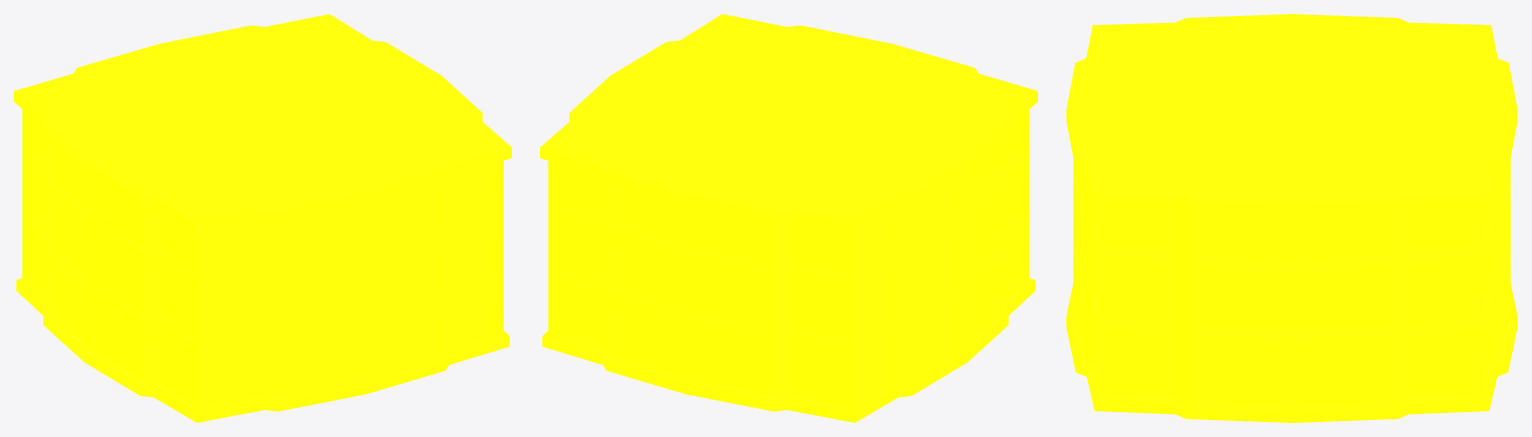
The model's file is skyscraper2-part-middle.glb.
The picture shows the model from 3 angles, left to right: view 1: azimuth 30°, elevation 25°; view 2: azimuth 150°, elevation 25°; view 3: azimuth 270°, elevation 25°; orthographic projection. The views are drawn at different scales.
Visible parts, largest first — view 1: skyscraper2-part-middle; view 2: skyscraper2-part-middle; view 3: skyscraper2-part-middle.
Boxes of the visible parts, left/top/right/bottom form: skyscraper2-part-middle: left=14, top=14, right=511, bottom=422; skyscraper2-part-middle: left=540, top=14, right=1037, bottom=422; skyscraper2-part-middle: left=1066, top=14, right=1517, bottom=422.
Size of the model in its own units: 20.6 by 11 by 20.6.
1 material, 1 textured.
